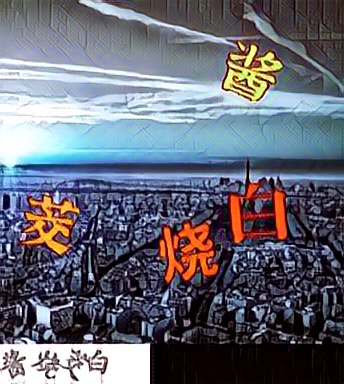B0D7: (225, 180, 288, 246)
BDB4: (218, 39, 281, 105)
C9D5: (156, 216, 219, 282)
DCFA: (15, 189, 78, 255)
